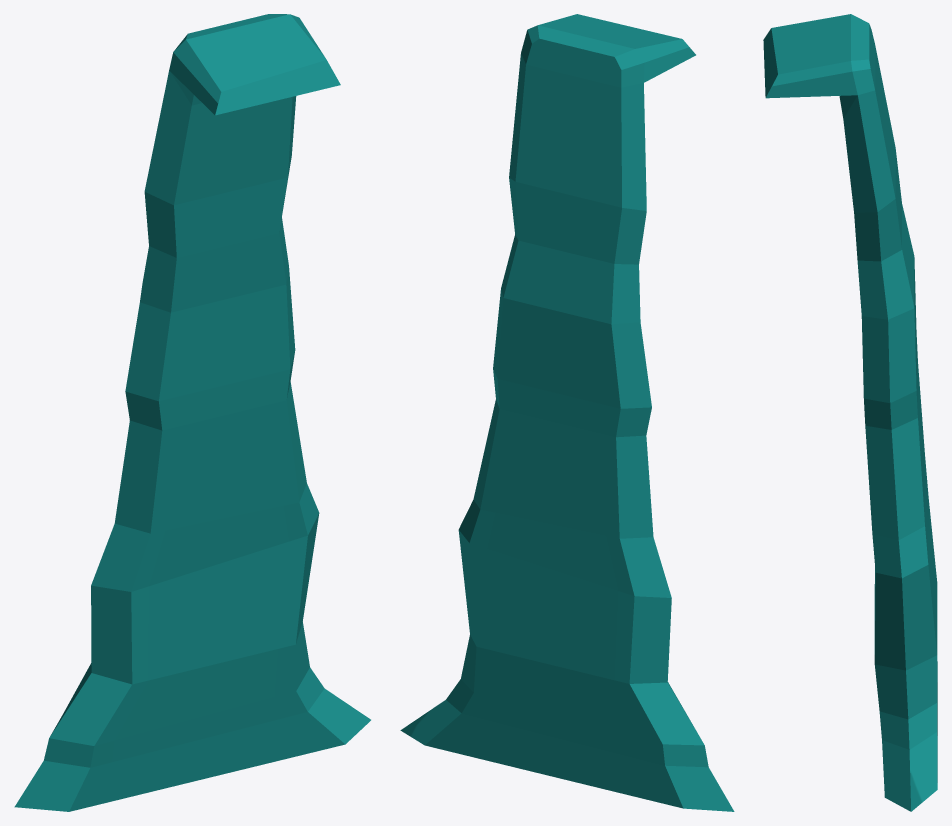
Rendered from CascadaAnimada_000006.obj.
3 views of the same model, side by side, from view 1: azimuth 30°, elevation 25°; view 2: azimuth 150°, elevation 25°; view 3: azimuth 270°, elevation 25° (orthographic). The views are drawn at different scales.
Visible parts, largest first — view 1: Cube.053, Cube.054; view 2: Cube.053, Cube.054; view 3: Cube.053, Cube.054.
Boxes of the visible parts, x1=… form: Cube.053: x1=14, y1=14, x2=370, y2=811; Cube.054: x1=169, y1=14, x2=340, y2=115; Cube.053: x1=400, y1=25, x2=734, y2=811; Cube.054: x1=538, y1=14, x2=695, y2=82; Cube.053: x1=839, y1=14, x2=937, y2=811; Cube.054: x1=763, y1=14, x2=857, y2=98.
Size of the model in its own units: 136 by 277 by 62.23.
